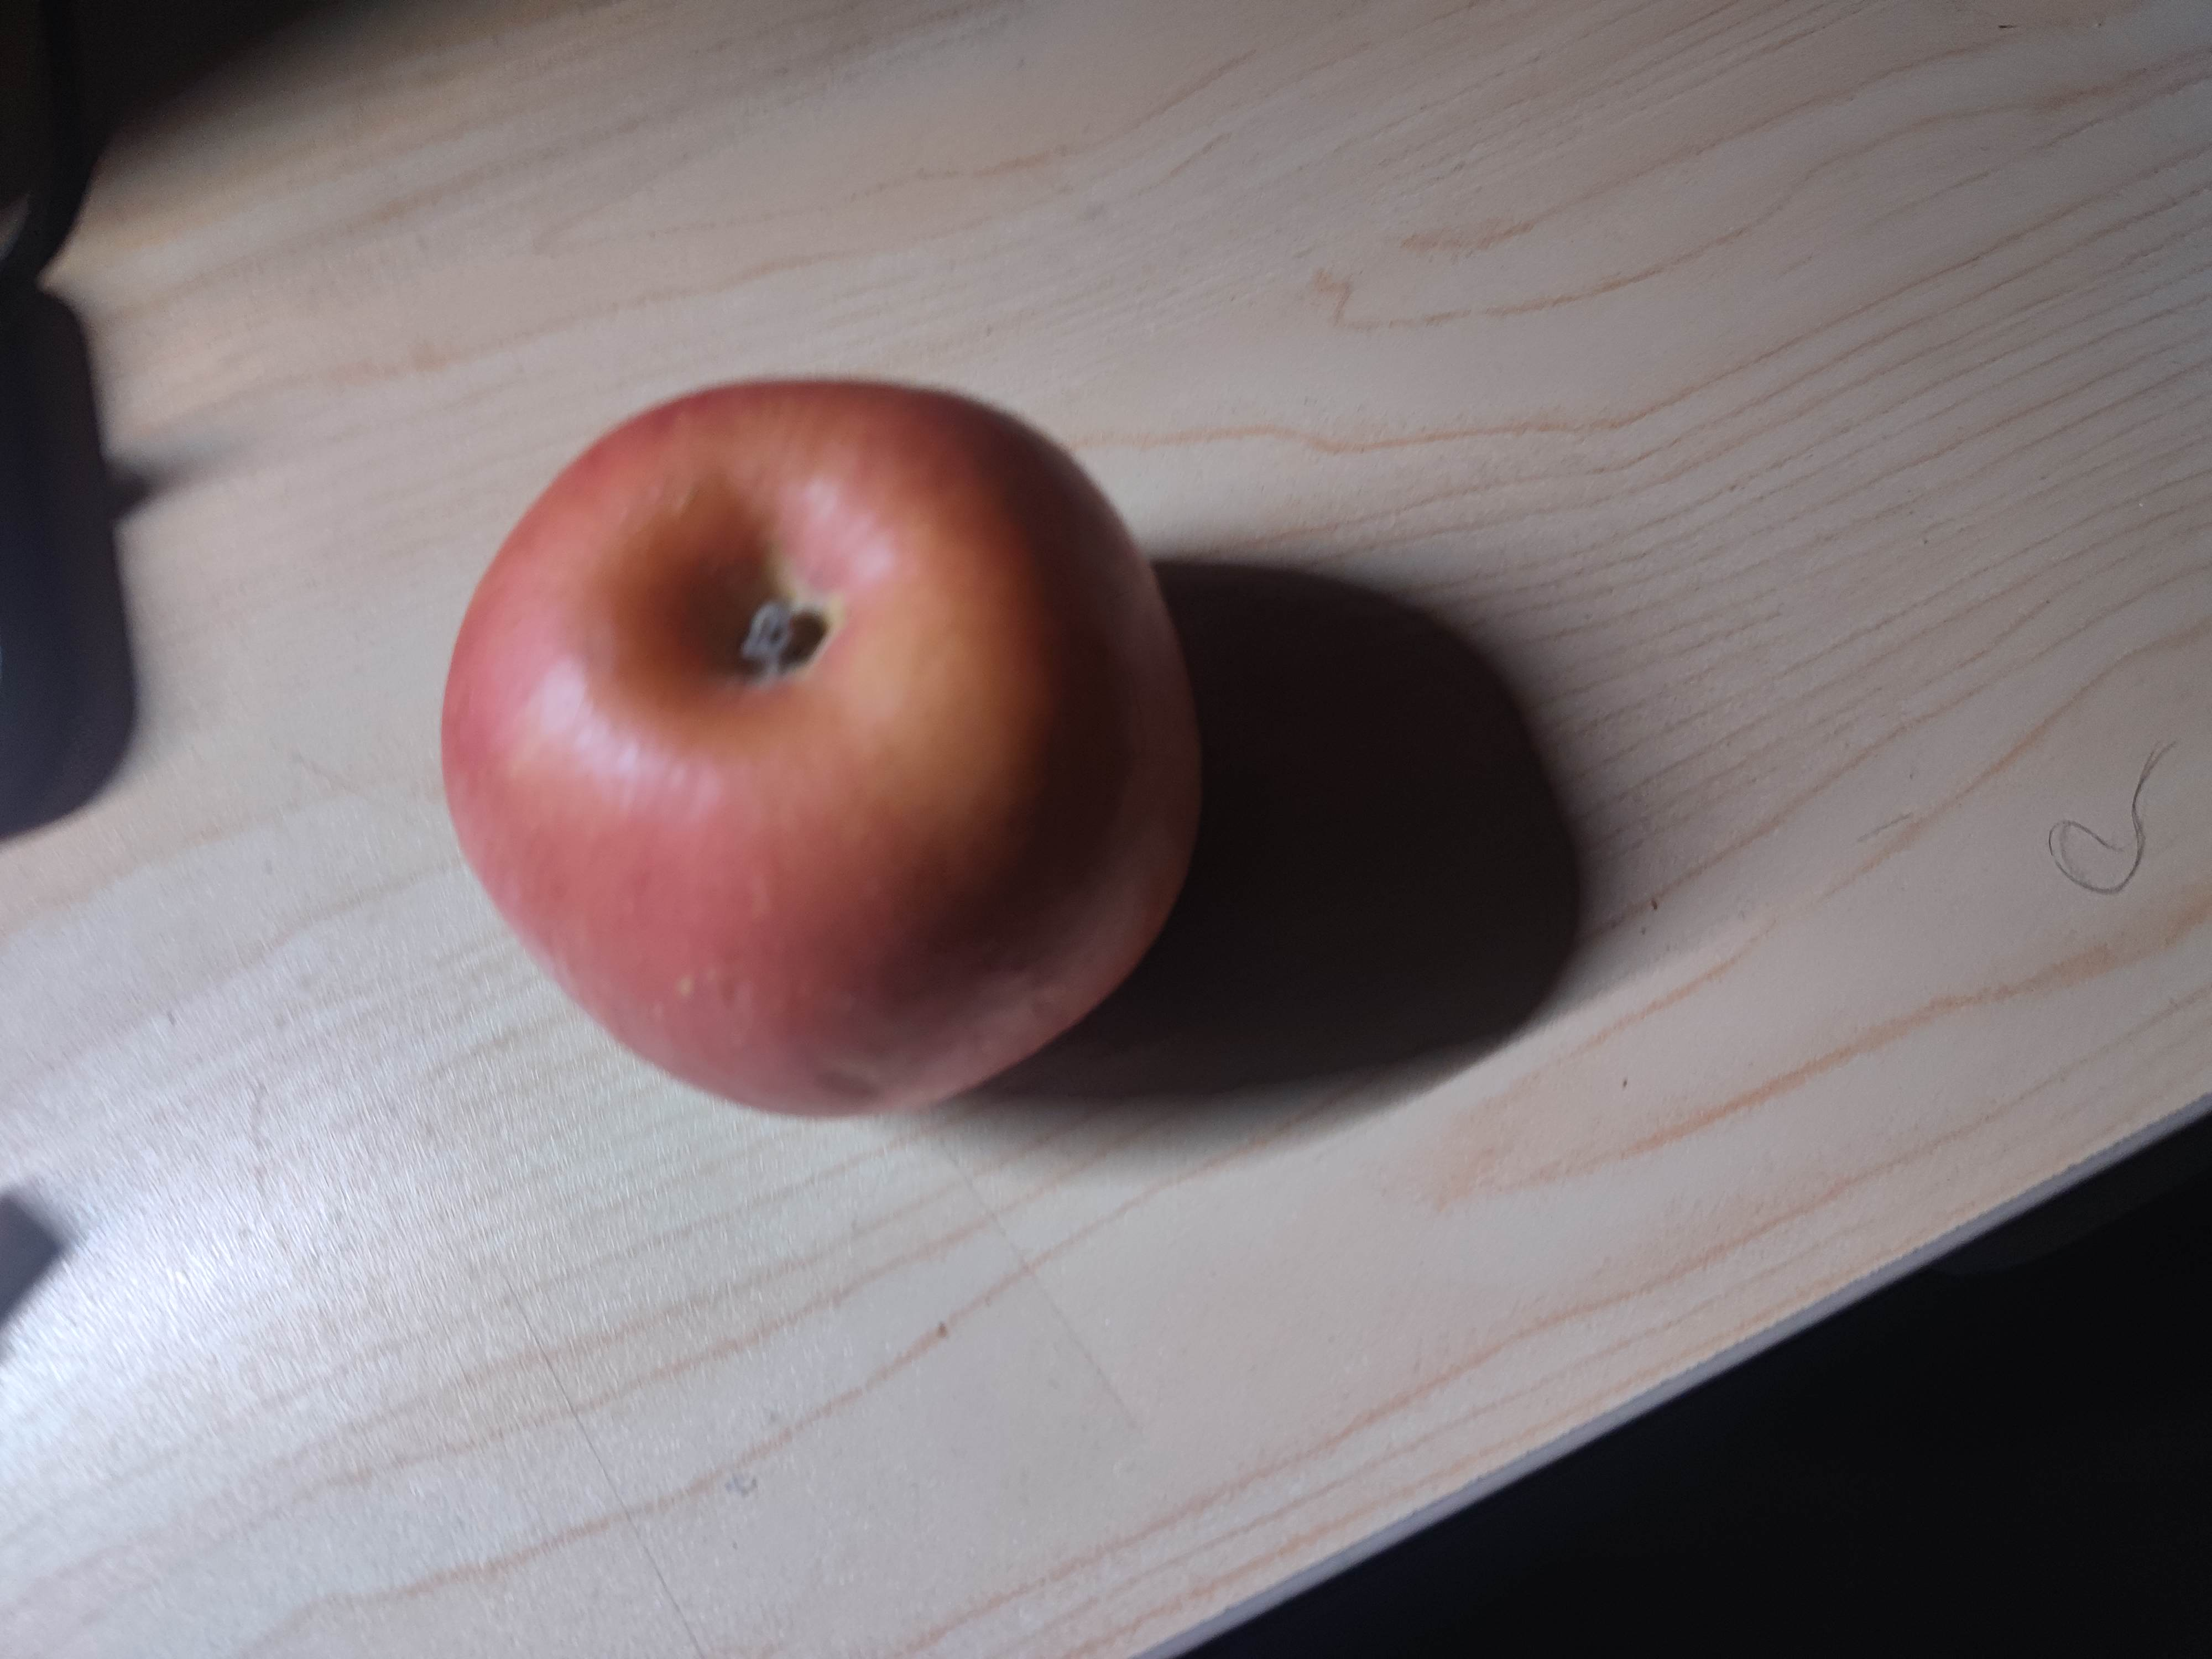apple: (448, 378, 1205, 1133)
